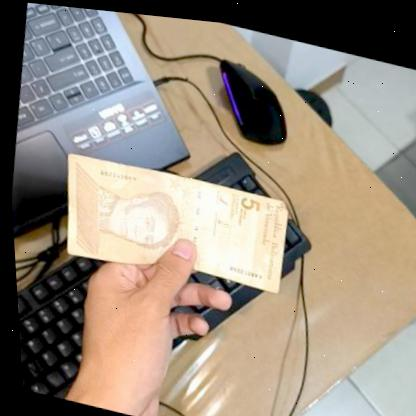five-front-vef: (51, 144, 290, 300)
